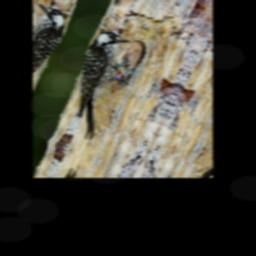Woodpecker: (53, 26, 144, 144)
